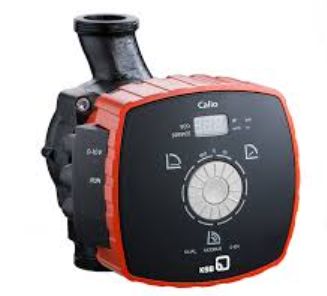Calio S / Calio BMS: (12, 4, 308, 289)
